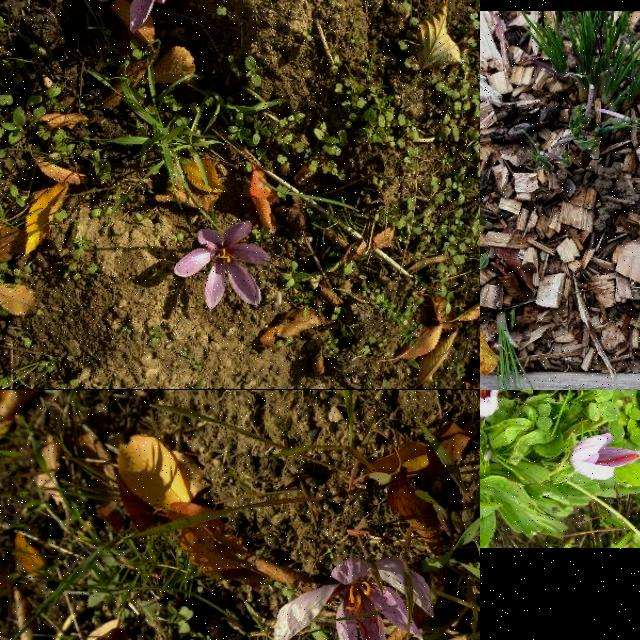flower: (273, 556, 435, 640), (174, 222, 270, 310), (568, 433, 640, 480), (97, 0, 170, 32)
